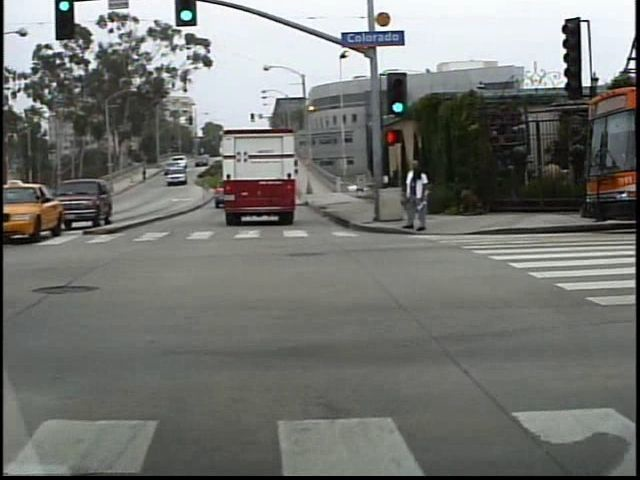person: (408, 157, 435, 236)
